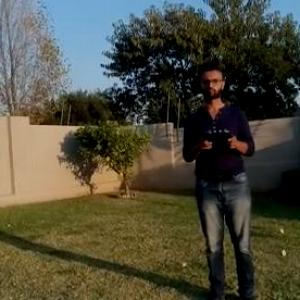follow: (177, 58, 270, 299)
